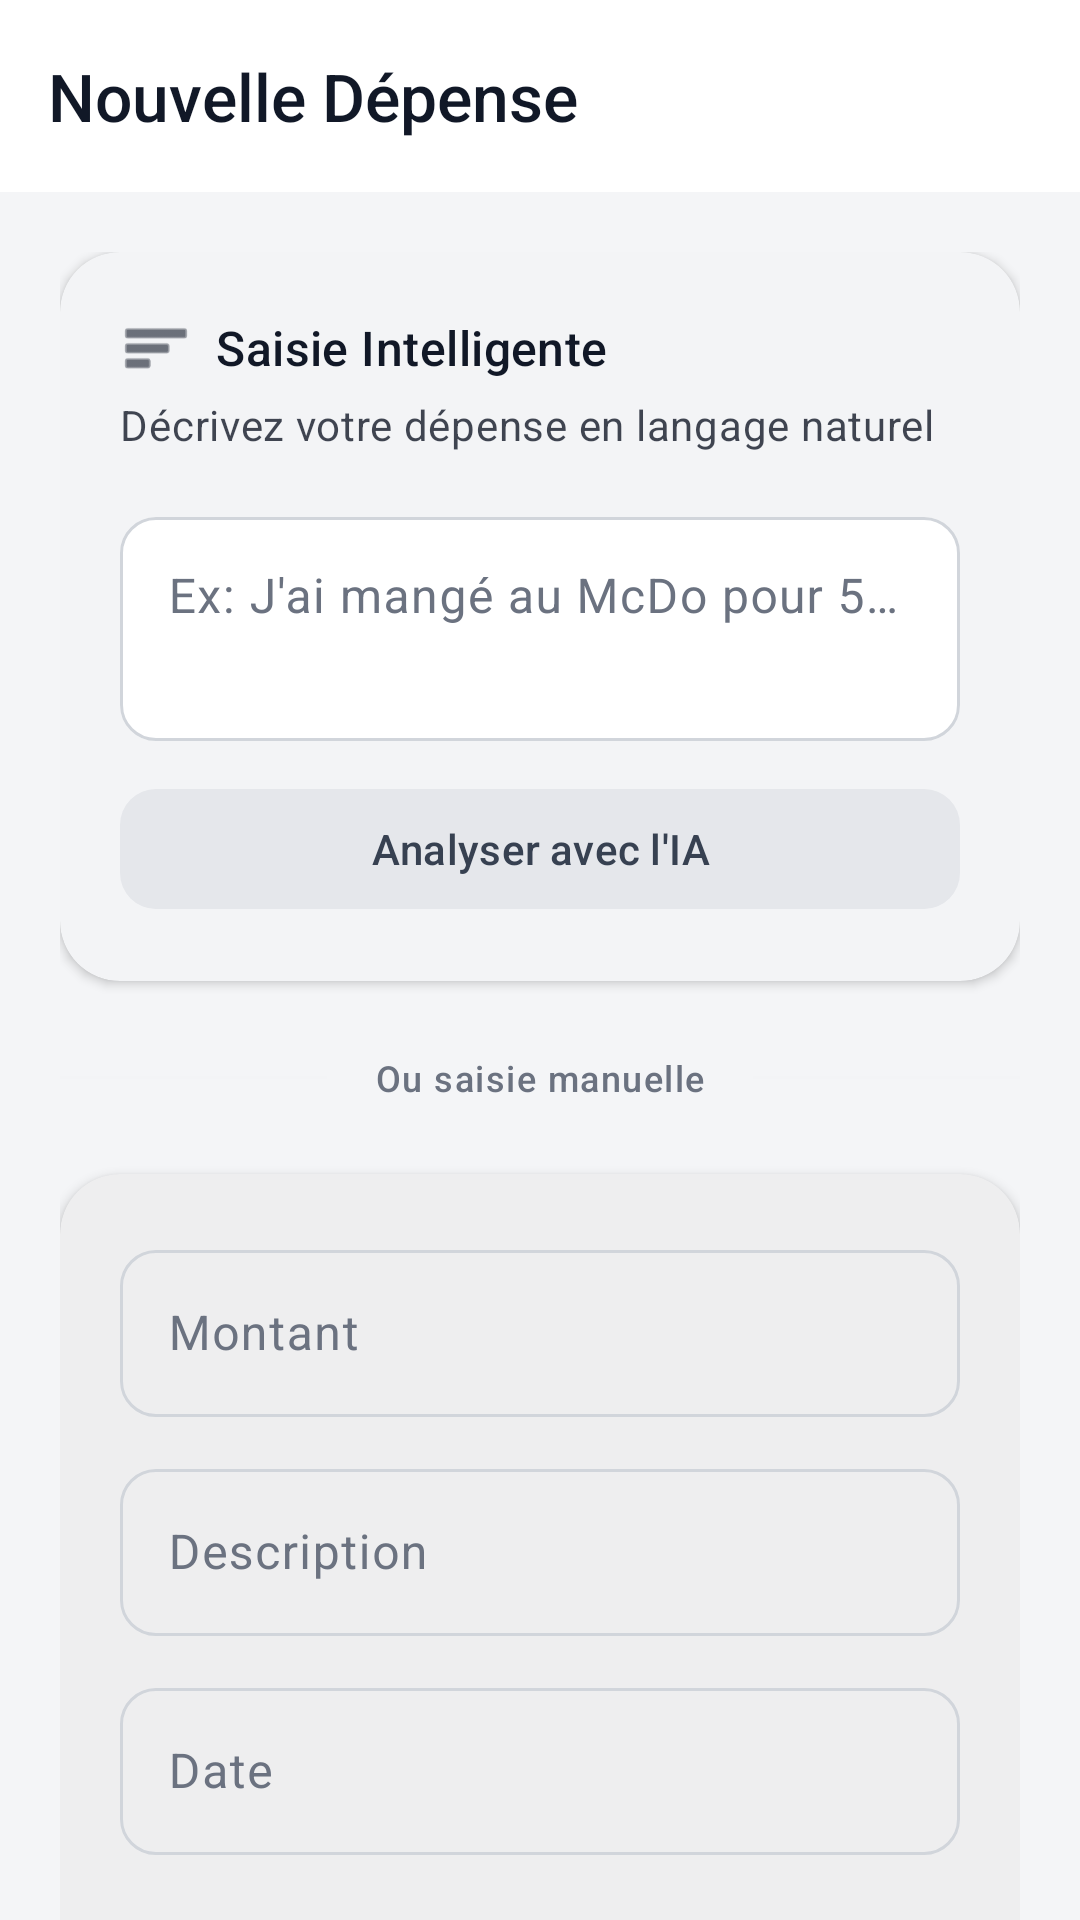

Where to tap for icons on this 1080 x 1920 app screen, as (x=x, y=y):
sort by size: (x=156, y=348)
